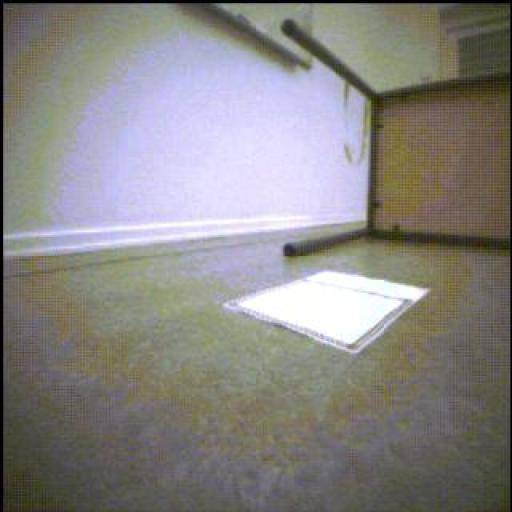Pad: (225, 272, 430, 355)
